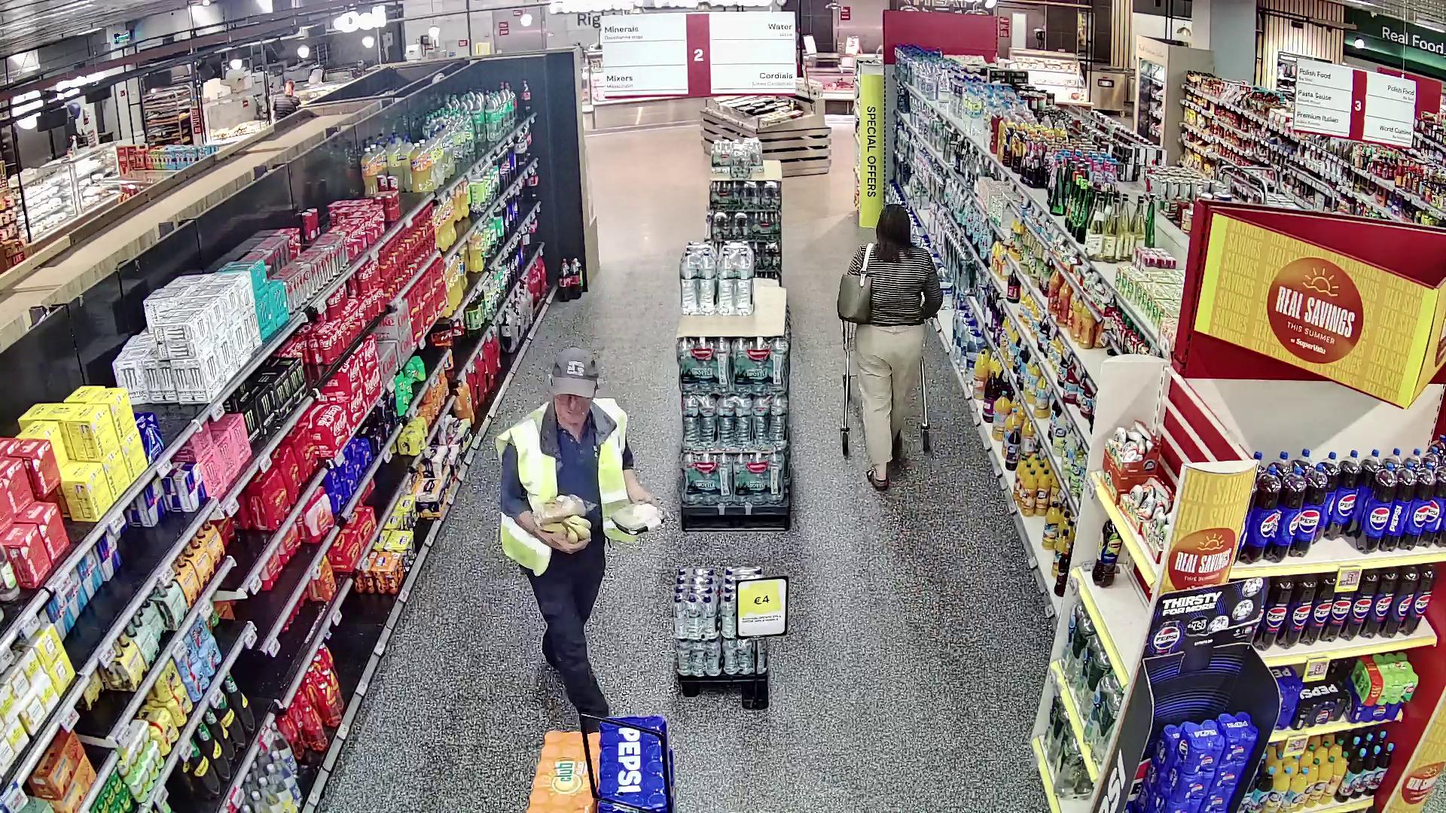backpack-or-handbag: (837, 274, 873, 322)
carrying-item: (535, 491, 597, 543), (608, 500, 664, 536)
filled-trolly: (838, 307, 935, 456)
person: (499, 347, 652, 726), (848, 202, 944, 491)
person-with-basket-trolly-and-backpack-handbag: (835, 202, 944, 489)
person-with-carrying-item: (499, 347, 663, 723)
